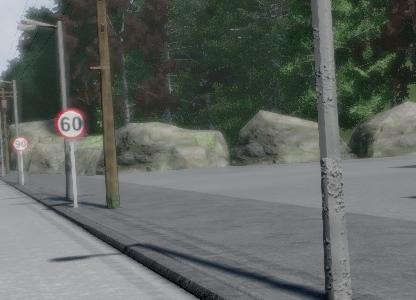Speed_60: (53, 106, 88, 140)
